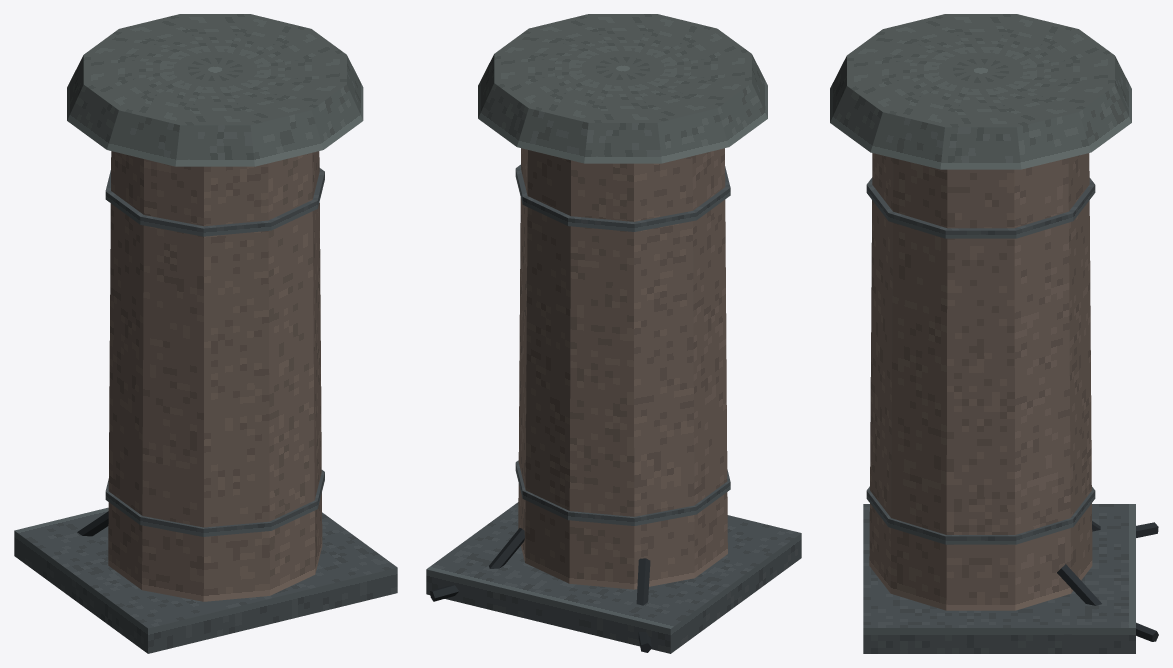
The model's file is f_exodii_generator_4.glb.
The picture shows the model from 3 angles, left to right: view 1: azimuth 30°, elevation 25°; view 2: azimuth 150°, elevation 25°; view 3: azimuth 270°, elevation 25°; orthographic projection. The views are drawn at different scales.
Parts seen in each view (by area): view 1: block_exodii-power-core-shell, block_wide-flat-top-saucer, block_industrial-power-footing, block_exodii-power-core-band-0.84, block_exodii-power-core-band-0.16; view 2: block_exodii-power-core-shell, block_wide-flat-top-saucer, block_industrial-power-footing, block_exodii-power-core-band-0.84, block_exodii-power-core-band-0.16, block_grounded-generator-cable-1 (×2); view 3: block_exodii-power-core-shell, block_wide-flat-top-saucer, block_industrial-power-footing, block_exodii-power-core-band-0.84, block_exodii-power-core-band-0.16, block_grounded-generator-cable-1.
Part boxes in pixels (<box>): block_exodii-power-core-shell: <box>108,151,322,601</box>; block_wide-flat-top-saucer: <box>67,14,363,166</box>; block_industrial-power-footing: <box>14,507,397,653</box>; block_exodii-power-core-band-0.84: <box>105,168,324,236</box>; block_exodii-power-core-band-0.16: <box>105,470,324,536</box>; block_exodii-power-core-shell: <box>518,148,727,589</box>; block_wide-flat-top-saucer: <box>478,14,767,163</box>; block_industrial-power-footing: <box>426,502,801,653</box>; block_exodii-power-core-band-0.84: <box>515,164,730,231</box>; block_exodii-power-core-band-0.16: <box>515,460,730,525</box>; block_grounded-generator-cable-1 (×2): <box>489,528,650,605</box>; block_exodii-power-core-shell: <box>869,153,1092,610</box>; block_wide-flat-top-saucer: <box>830,14,1131,169</box>; block_industrial-power-footing: <box>863,504,1135,653</box>; block_exodii-power-core-band-0.84: <box>866,177,1095,238</box>; block_exodii-power-core-band-0.16: <box>866,486,1095,544</box>; block_grounded-generator-cable-1: <box>1057,564,1101,605</box>.
Bounding box in the file's own units: 0.8635 × 1.65 × 0.9412.
Materials: 1 (1 with a texture image).
